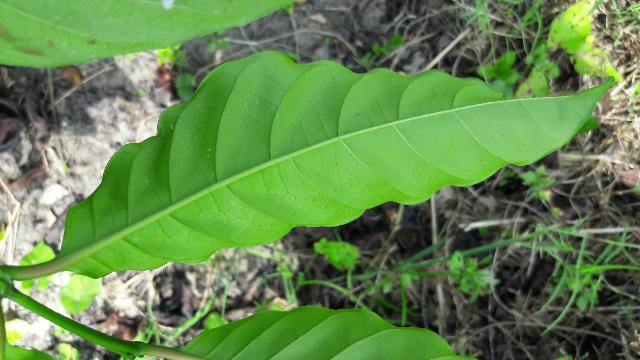healthy: (58, 49, 607, 278)
